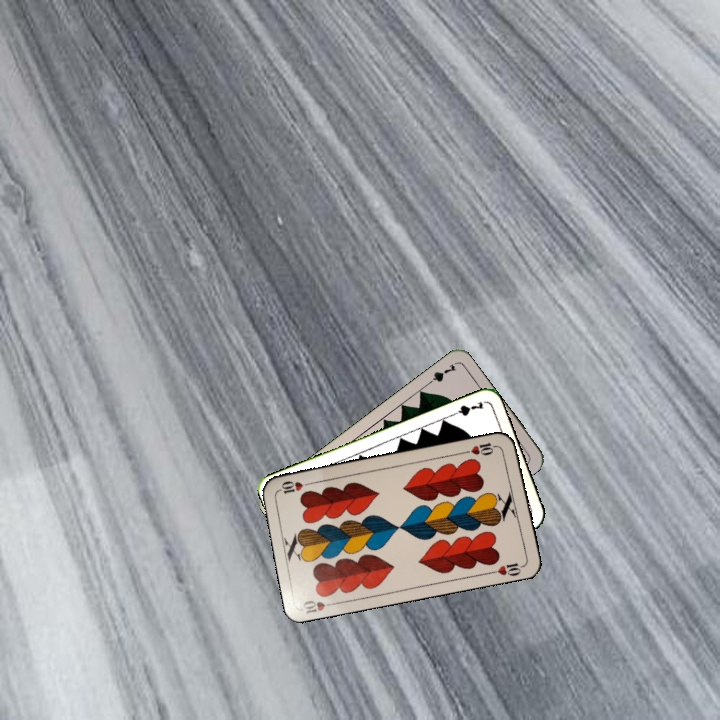G7: (422, 360, 459, 389), (446, 397, 486, 419)
H10: (299, 596, 340, 616), (461, 438, 501, 458)
